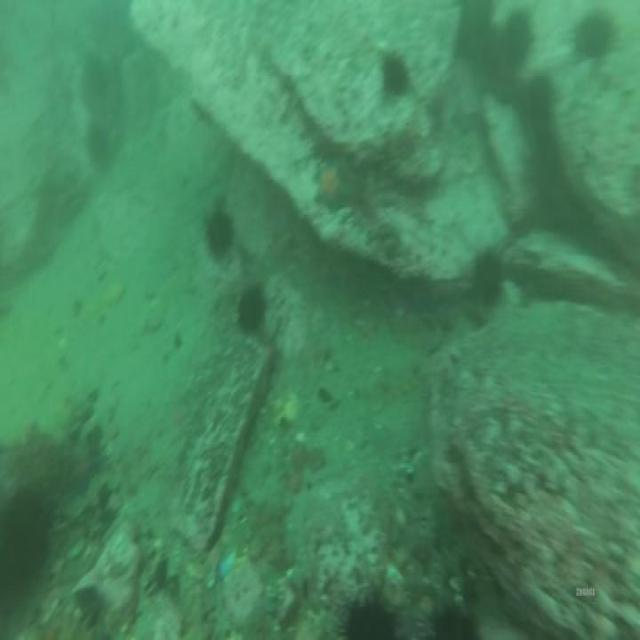echinus: (341, 605, 395, 640), (572, 11, 612, 57), (503, 11, 529, 73), (430, 608, 478, 640), (474, 253, 500, 302), (238, 288, 263, 330), (208, 215, 233, 257), (383, 58, 405, 94)
starfish: (313, 163, 353, 212), (70, 446, 103, 493)
